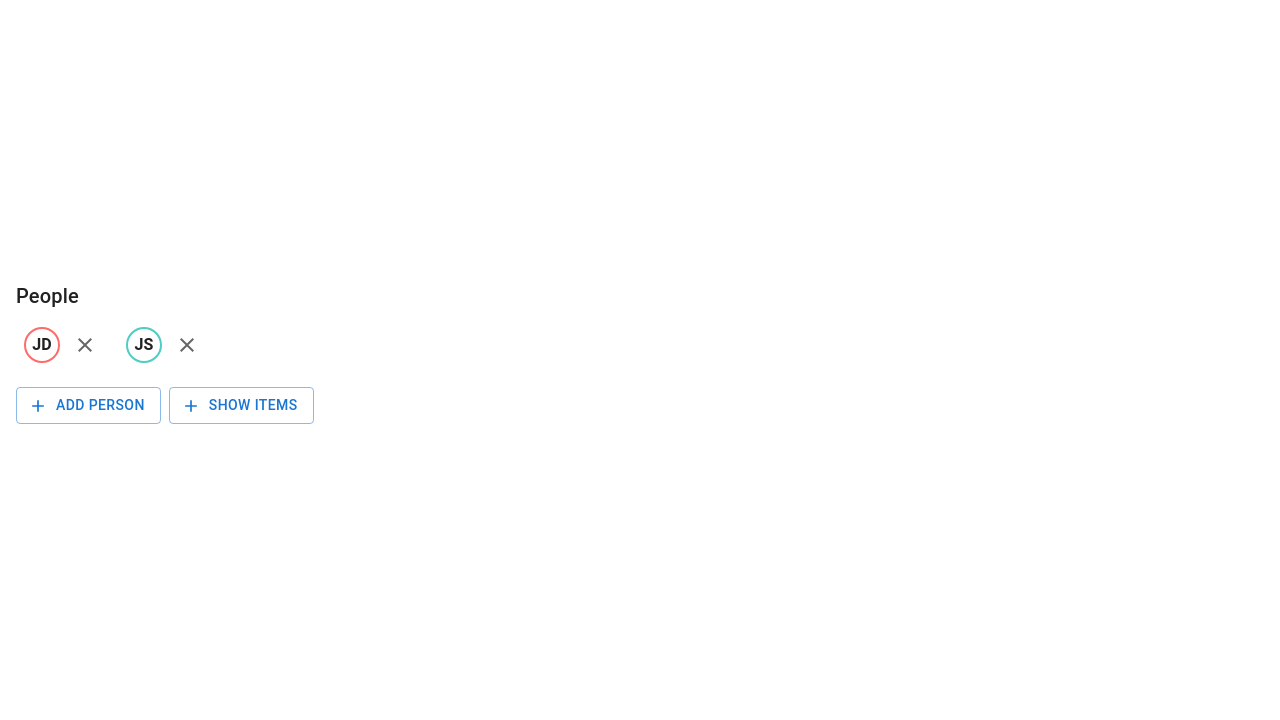
Test case: UserAssignment › opens dialog when add person button is clicked
The width and height of the screenshot is (1280, 720).
Click the button "Add Person" at (88, 406), box [16, 387, 161, 424]
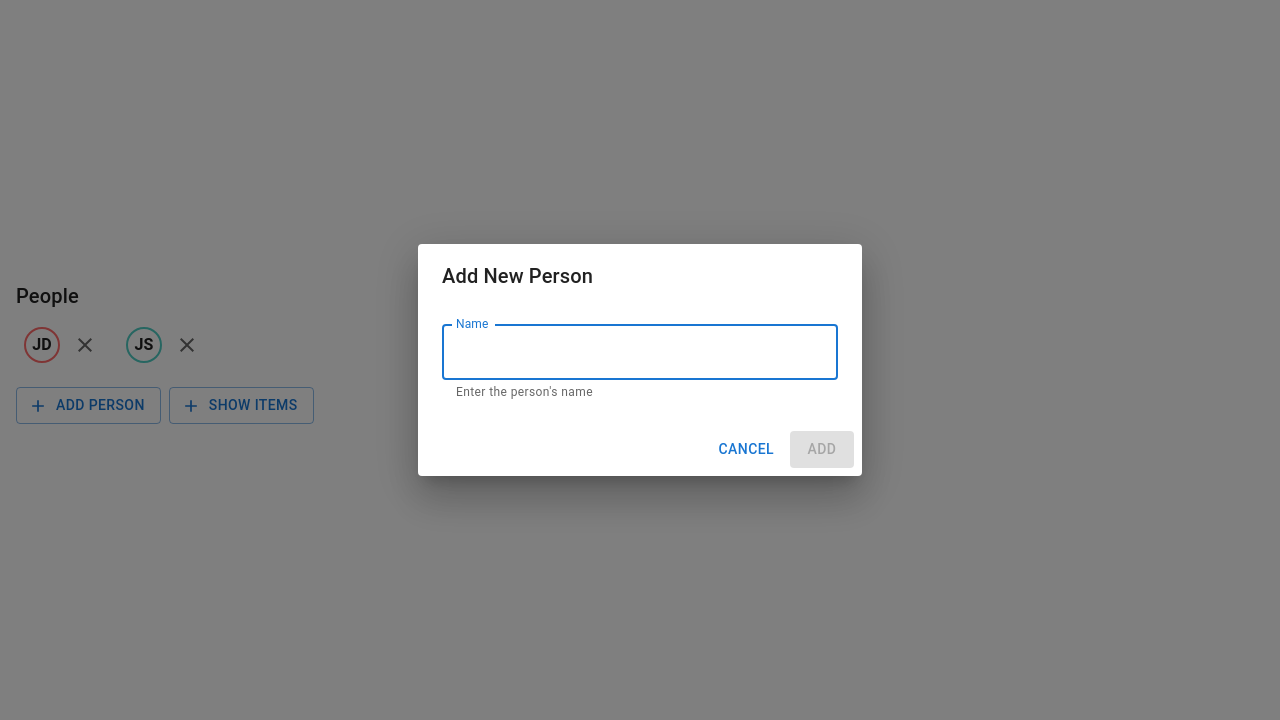
Now the heading "Add New Person" is shown, box [442, 264, 593, 288]
